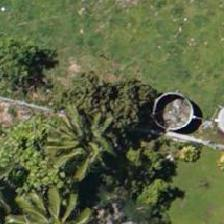coconut_tree: (38, 100, 128, 190)
